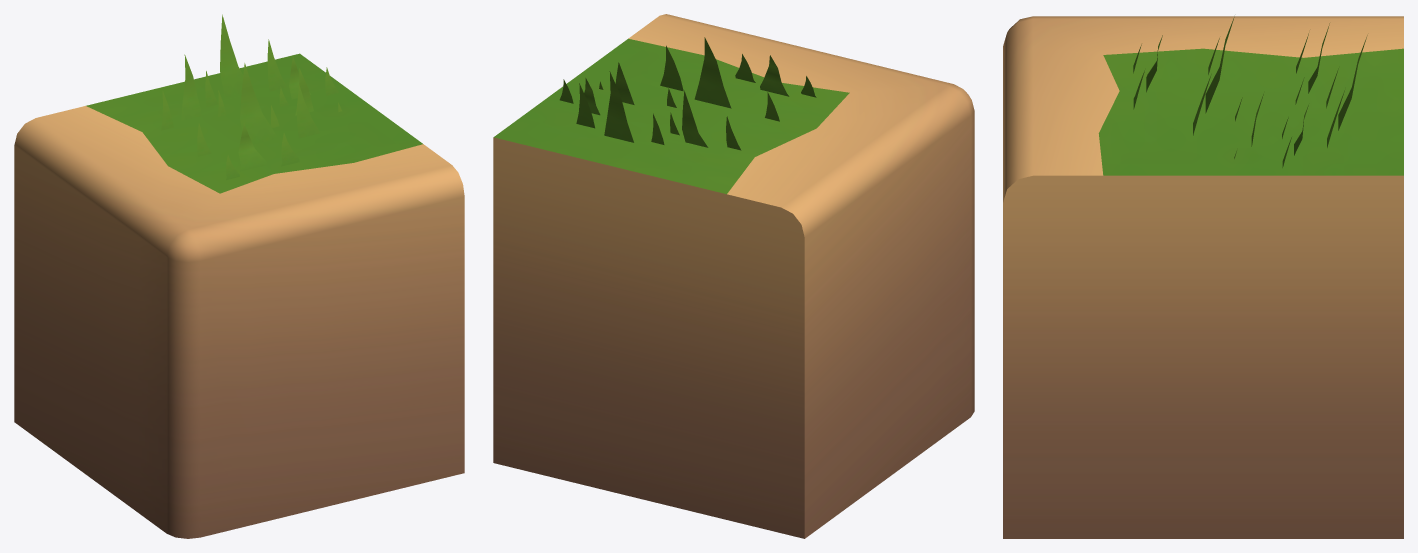
File: dcorner m tile.fbx
3 renders of one model, left to right at view 1: azimuth 30°, elevation 25°; view 2: azimuth 150°, elevation 25°; view 3: azimuth 270°, elevation 25°, orthographic. The views are drawn at different scales.
Visible parts, largest first — view 1: dc_m_tile, dc_m_grass; view 2: dc_m_tile, dc_m_grass; view 3: dc_m_tile, dc_m_grass.
Boxes of the visible parts, bbox=[...] form: dc_m_tile: bbox=[14, 53, 464, 538]; dc_m_grass: bbox=[161, 14, 341, 179]; dc_m_tile: bbox=[493, 14, 974, 538]; dc_m_grass: bbox=[559, 37, 816, 150]; dc_m_tile: bbox=[1003, 16, 1403, 538]; dc_m_grass: bbox=[1133, 16, 1367, 167].
Bounding box in the file's own units: 10 × 12.44 × 10.
